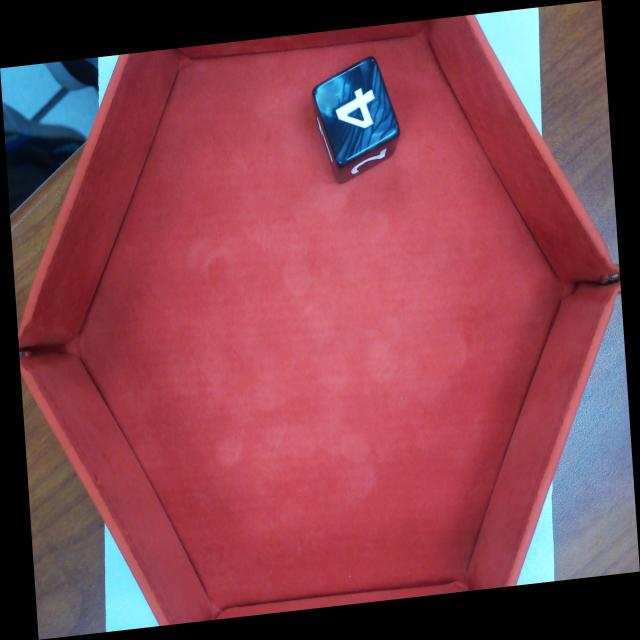dice: (317, 58, 398, 161)
